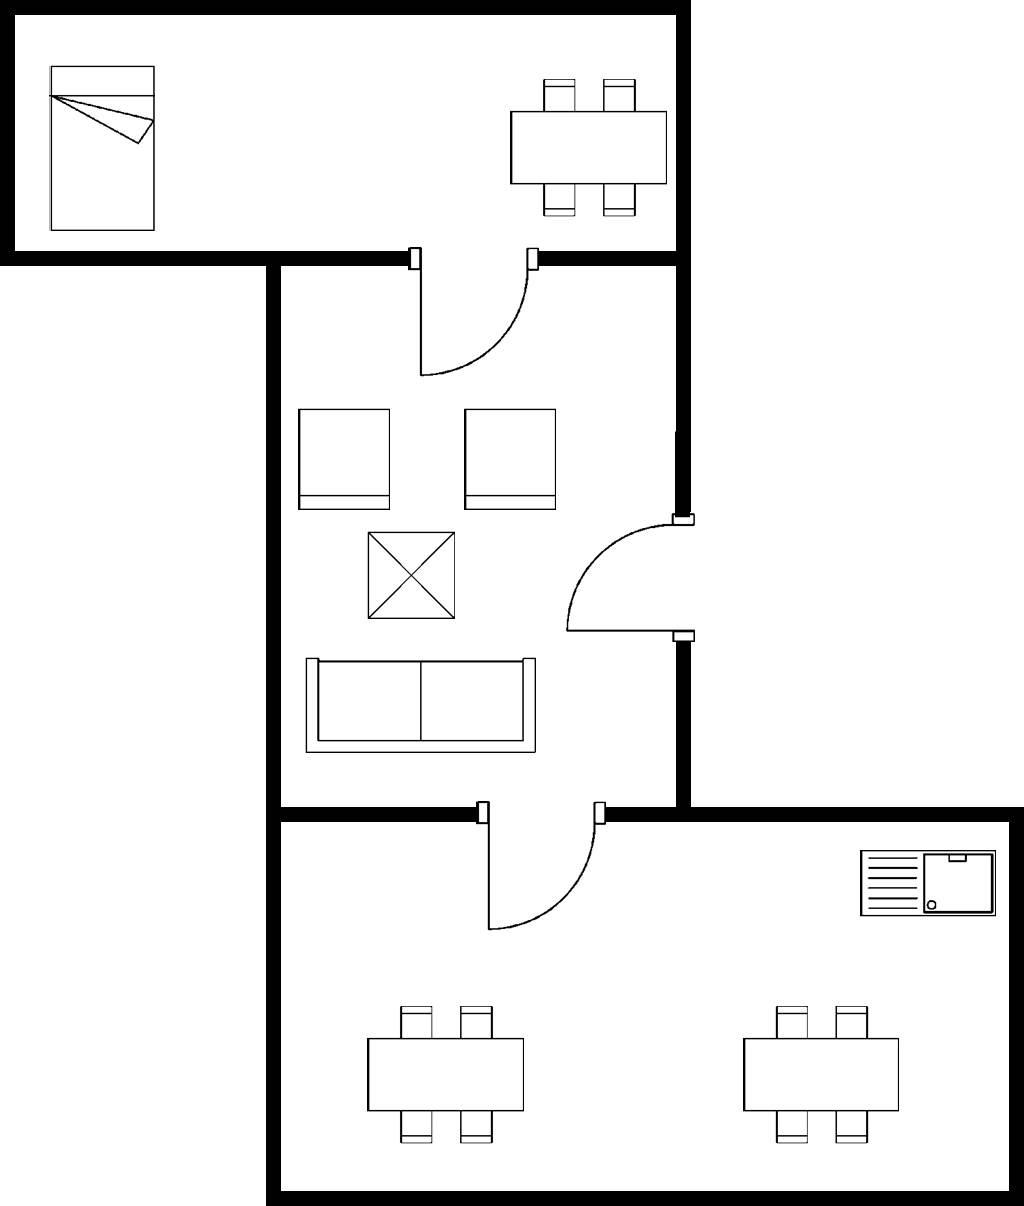bed: (41, 58, 164, 238)
dining_table: (500, 70, 673, 225), (735, 995, 908, 1149), (358, 998, 531, 1148)
sink: (850, 840, 1001, 923)
sofa: (297, 650, 545, 762)
